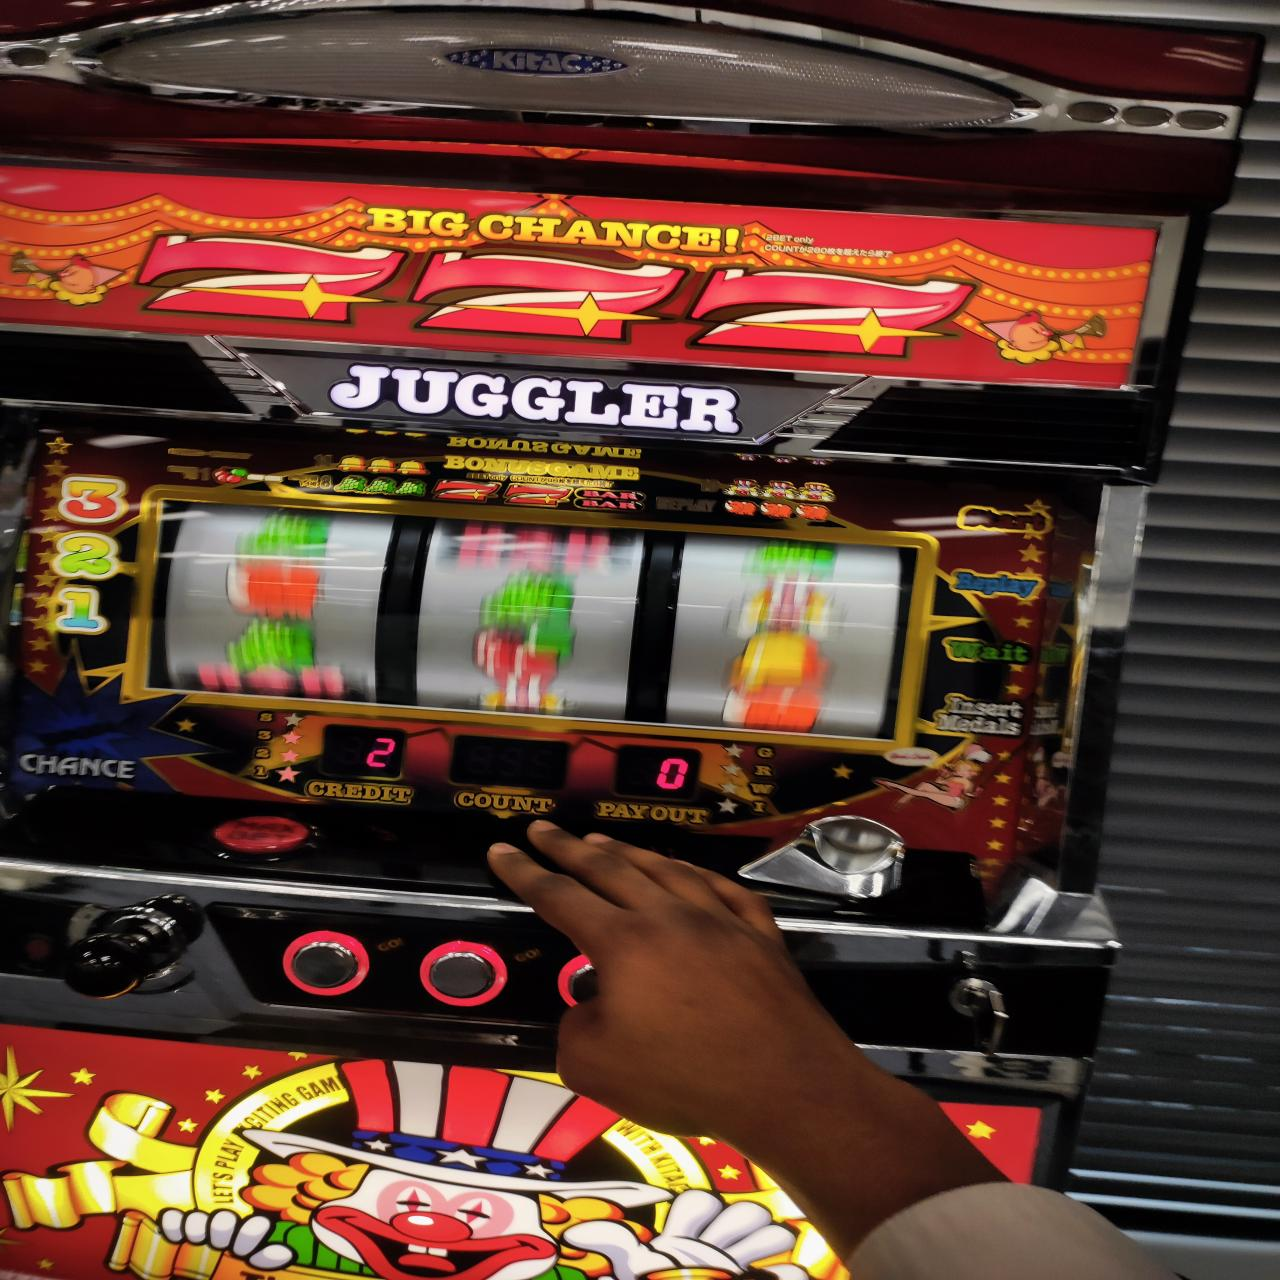rhino: (156, 489, 911, 747)
